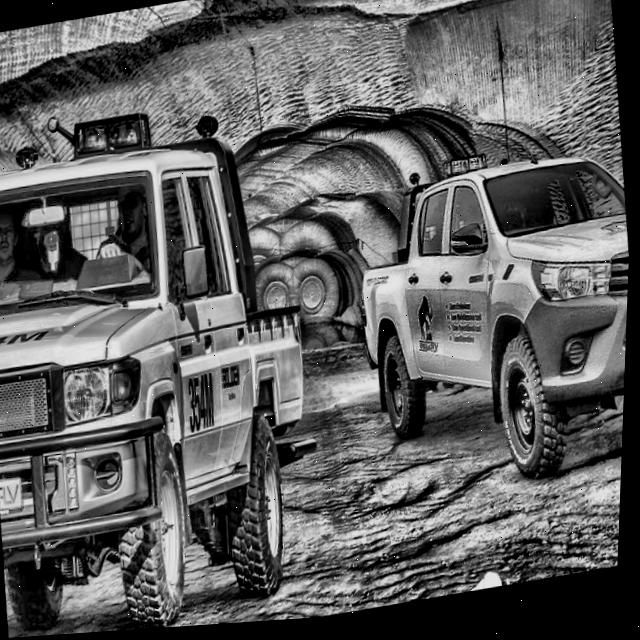light_vehicle: (0, 54, 346, 640), (320, 107, 636, 550)
